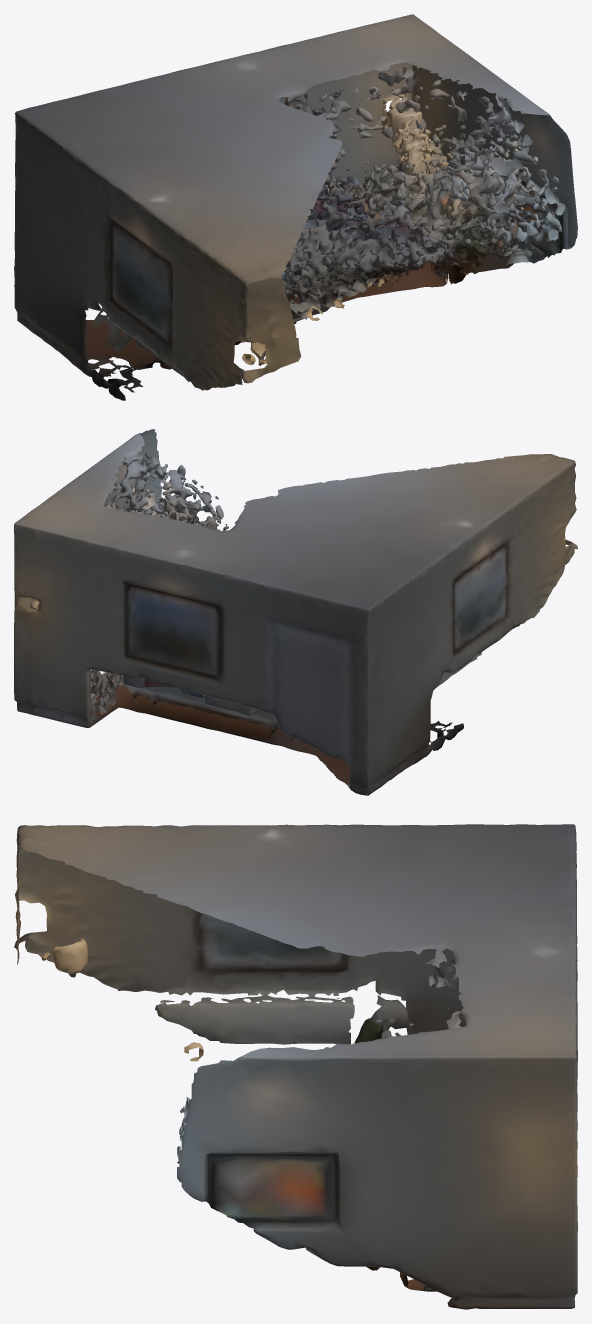
The model's file is rtab_gt.glb.
3 renders of one model, top to bottom at view 1: azimuth 30°, elevation 25°; view 2: azimuth 150°, elevation 25°; view 3: azimuth 270°, elevation 25°, orthographic. The views are drawn at different scales.
Bounding box in the file's own units: 4.94 × 2.55 × 4.99.
